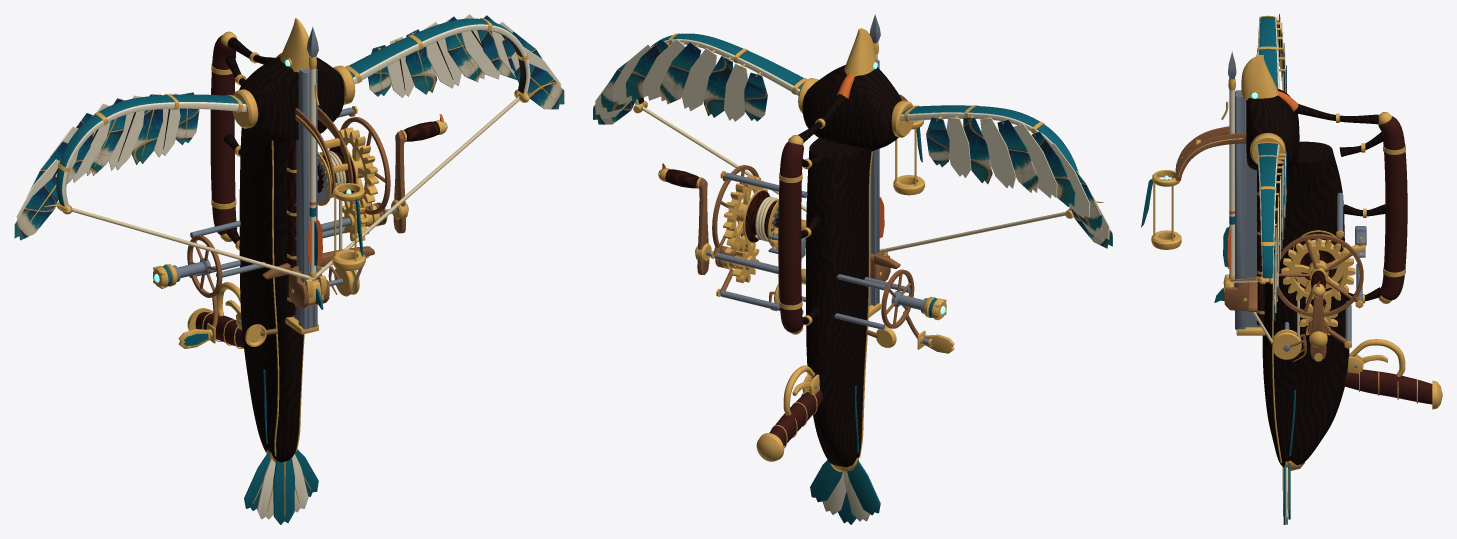
Rendered from siegebird-opus.glb.
The picture shows the model from 3 angles, left to right: view 1: azimuth 30°, elevation 25°; view 2: azimuth 150°, elevation 25°; view 3: azimuth 270°, elevation 25°; orthographic projection. The views are drawn at different scales.
Visible parts, largest first — view 1: Body, Wings, LiveCord, Bolt, Sled, Reduction, Drum, Crank, Pinion, CrankKnob; view 2: Body, Wings, Drum, LiveCord, Reduction, Crank, Pinion, Sled, CrankKnob; view 3: Body, Wings, Reduction, Bolt, Sled, Crank, Drum, OpticRear, Pinion.
Boxes of the visible parts, x1,y1,x2,y2 form: Body: (173,18,390,524); Wings: (14,14,564,240); LiveCord: (72,95,519,292); Bolt: (306,27,322,277); Sled: (262,246,374,309); Reduction: (335,127,378,208); Drum: (317,146,357,205); Crank: (386,130,408,233); Pinion: (321,201,379,241); CrankKnob: (404,114,447,141); Body: (710,28,927,524); Wings: (593,33,1112,248); Drum: (743,189,778,247); LiveCord: (642,106,1065,302); Reduction: (723,175,767,251); Crank: (695,177,711,274); Pinion: (721,243,778,283); Sled: (804,237,900,281); CrankKnob: (658,163,699,188); Body: (1141,55,1442,524); Wings: (1255,14,1286,321); Reduction: (1281,238,1355,305); Bolt: (1223,51,1236,279); Sled: (1214,274,1257,312); Crank: (1309,267,1327,361); Drum: (1292,230,1344,289); OpticRear: (1151,230,1181,249); Pinion: (1299,303,1337,335).
Bounding box in the file's own units: 1.2 × 1.08 × 0.6259.
13 materials, 3 textured.
